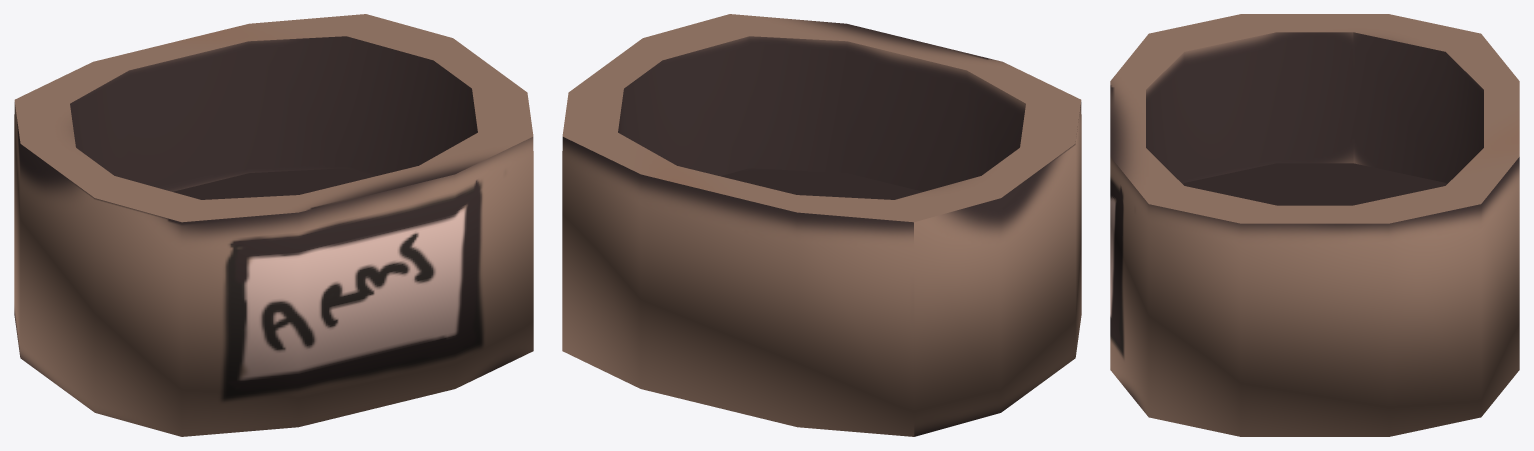
File: BasketArms.fbx
3 renders of one model, left to right at view 1: azimuth 30°, elevation 25°; view 2: azimuth 150°, elevation 25°; view 3: azimuth 270°, elevation 25°, orthographic.
Parts seen in each view (by area): view 1: BasketArms; view 2: BasketArms; view 3: BasketArms.
Part boxes in pixels (x1,y1,x2,y2): BasketArms: (14,14,533,436); BasketArms: (562,14,1081,436); BasketArms: (1110,14,1519,436).
Size of the model in its own units: 243 by 115 by 200.
